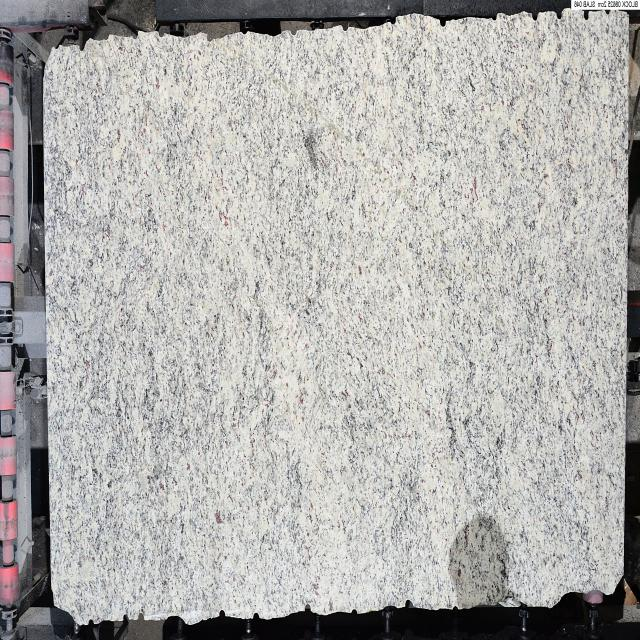chapa: (45, 13, 629, 624)
